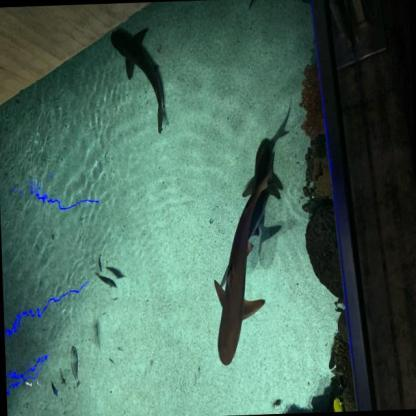fish: (69, 344, 82, 388), (94, 271, 116, 290), (332, 394, 345, 412), (51, 379, 58, 397), (97, 254, 103, 271)
shark: (204, 160, 283, 374), (226, 134, 286, 268), (108, 22, 171, 139)
